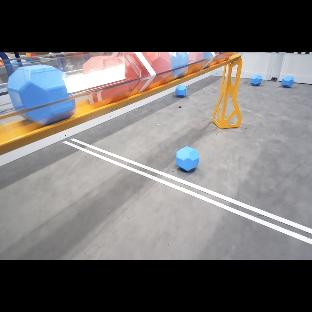V5_BLUE: (176, 146, 199, 172), (175, 85, 187, 98), (250, 75, 263, 86), (289, 77, 294, 86)
blueingoal: (7, 65, 69, 110), (26, 100, 75, 125), (171, 52, 191, 69), (172, 67, 189, 76), (200, 52, 214, 60)
redingoal: (83, 52, 178, 105), (185, 62, 203, 74), (187, 52, 205, 64)
